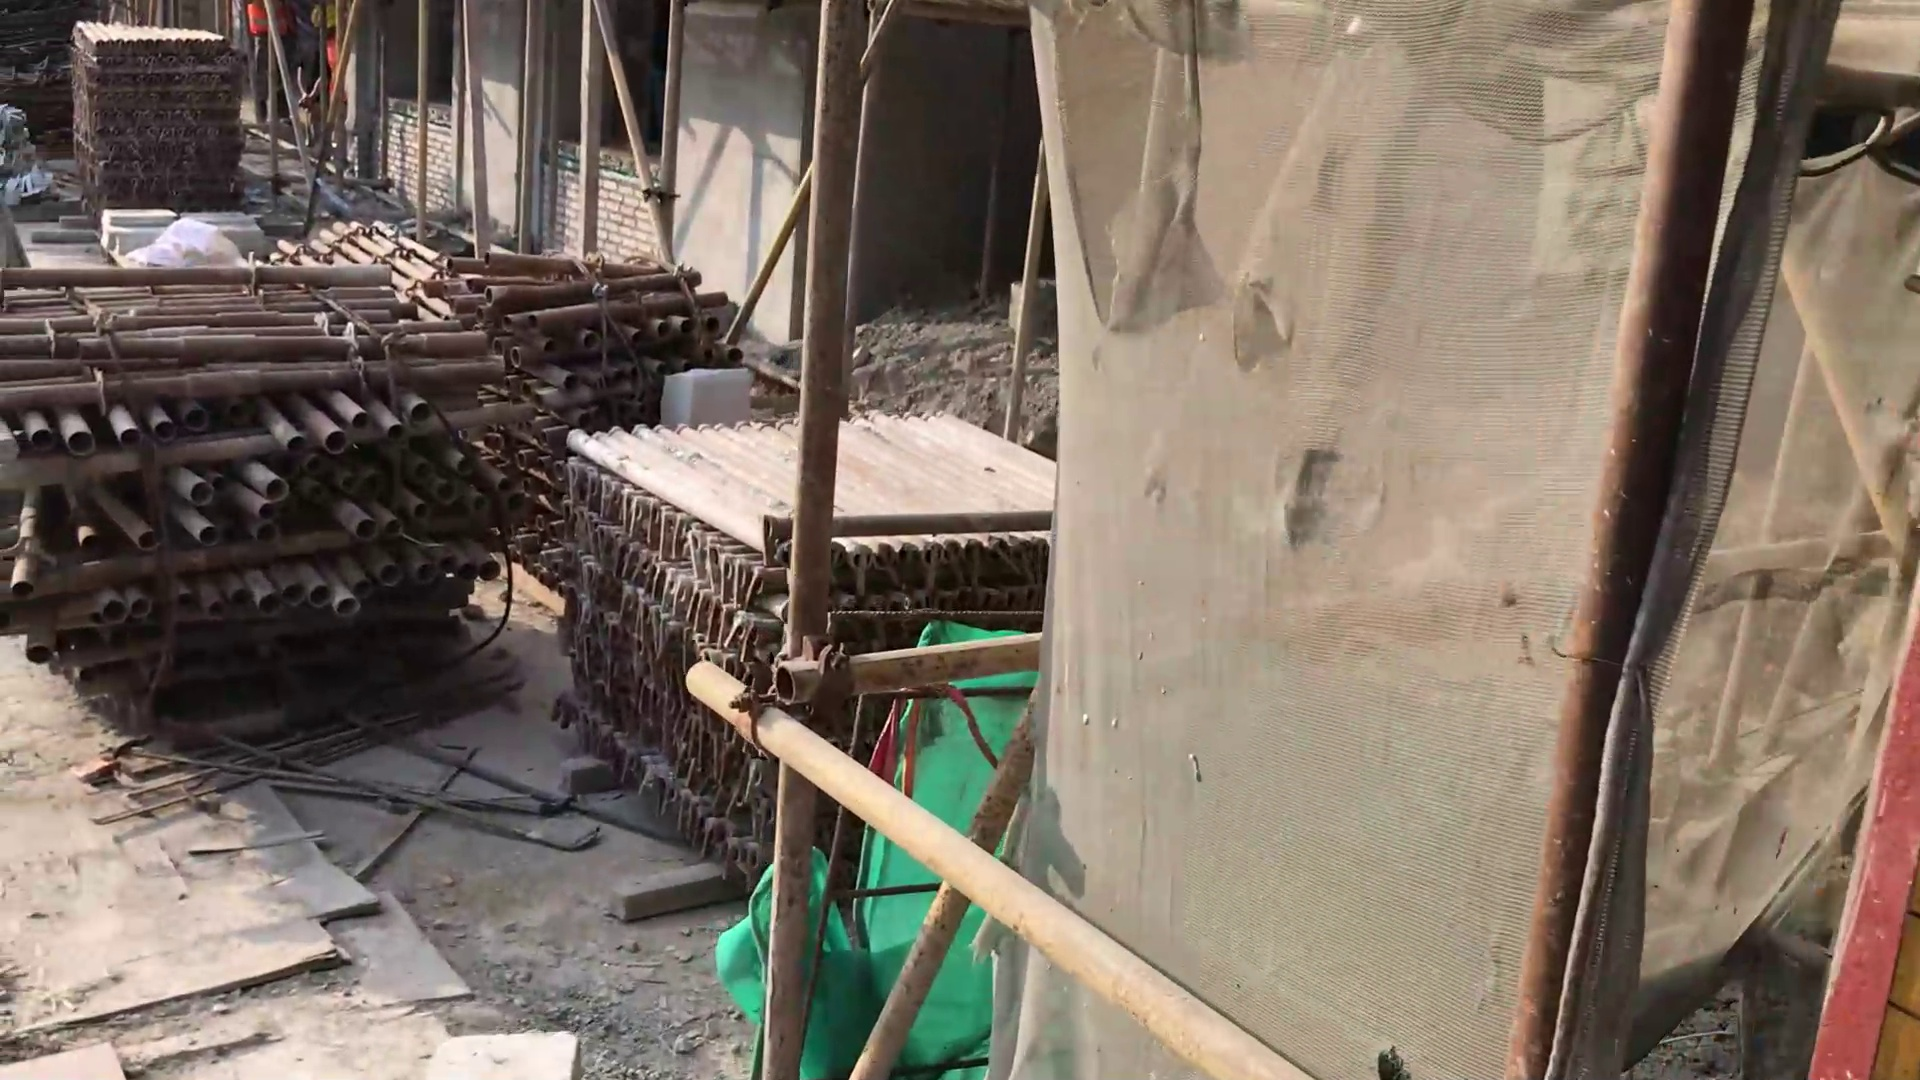helmet: (310, 1, 349, 32)
person: (247, 1, 298, 124)
scaffold: (1, 218, 1053, 867), (68, 20, 248, 212)
vest: (246, 1, 296, 39)
